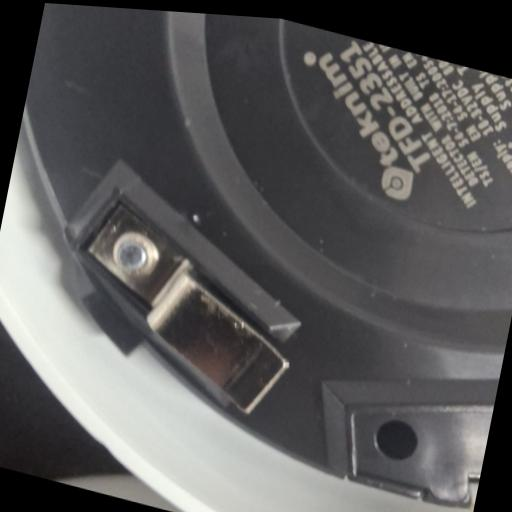yaysiz: (54, 173, 317, 425)
